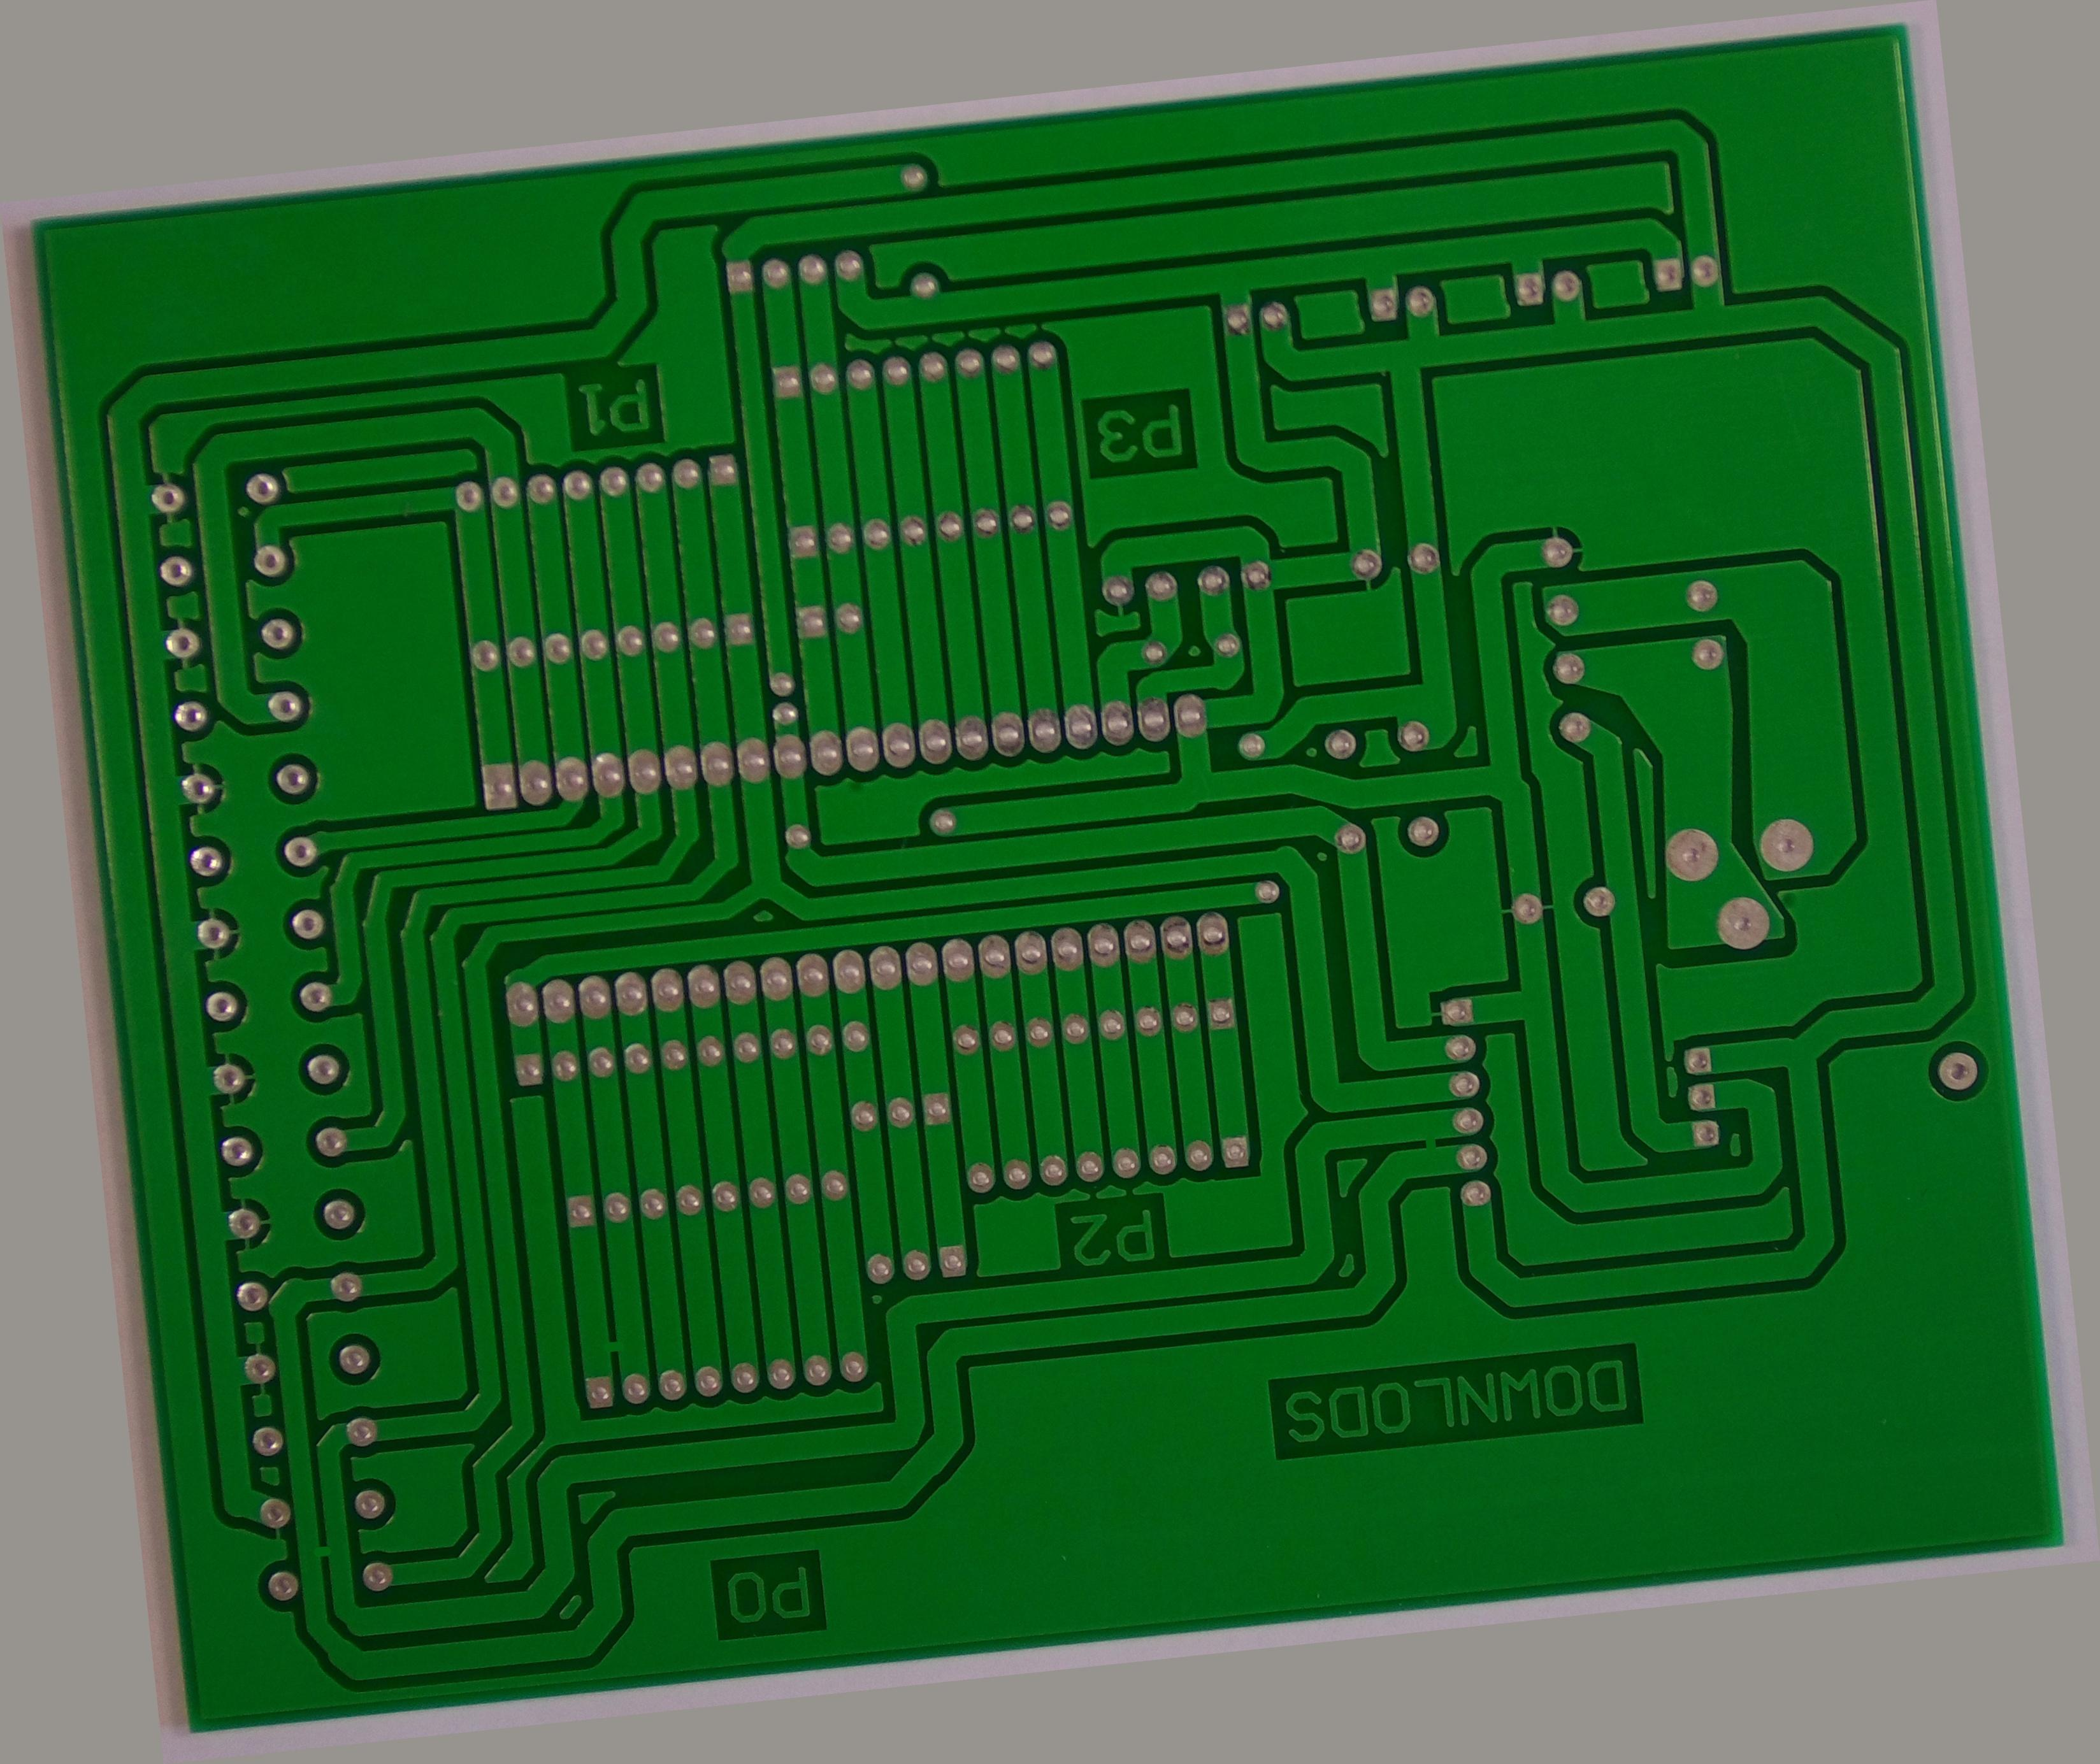short: (483, 1305, 569, 1377), (164, 1510, 229, 1573), (1405, 1185, 1456, 1251)
